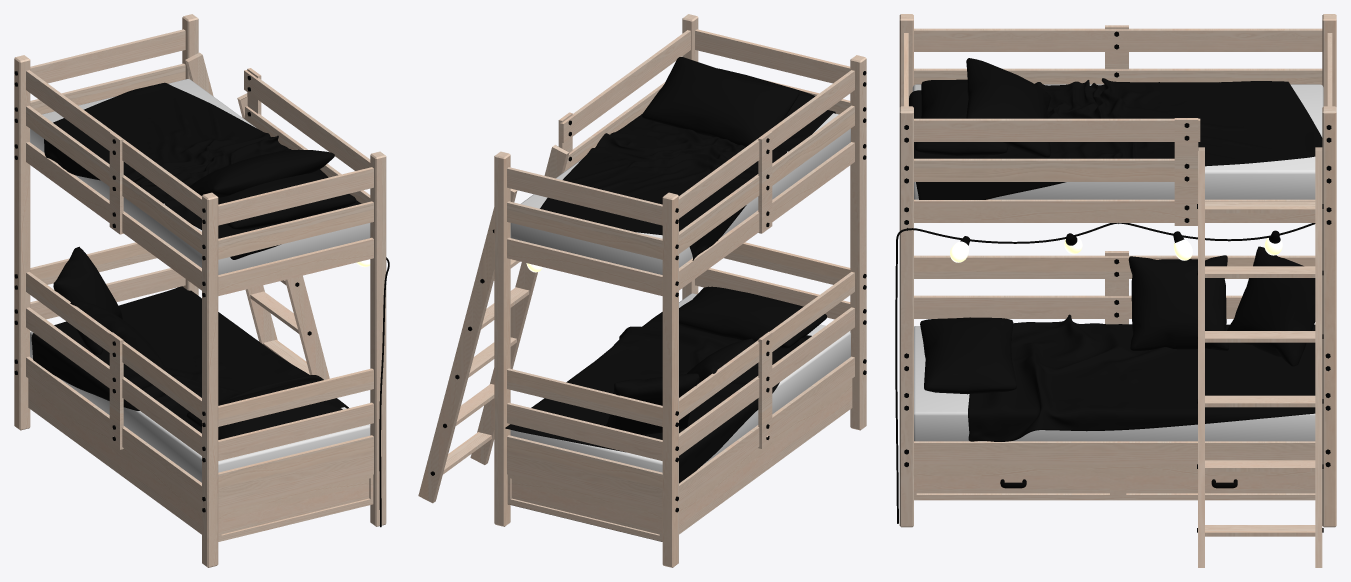
The model's file is Bunkbed.glb.
3 views of the same model, side by side, from view 1: azimuth 30°, elevation 25°; view 2: azimuth 150°, elevation 25°; view 3: azimuth 270°, elevation 25° (orthographic). The views are drawn at different scales.
Visible parts, largest first — view 1: Plane, blanket, pillow.004, materass, lamps, Metal; view 2: Plane, blanket, pillow.004, materass, Metal; view 3: Plane, blanket, pillow.004, materass, lamps, Metal.
Boxes of the visible parts, box(x1,y1,x2,y2) form: Plane: box(14, 14, 386, 567); blanket: box(31, 82, 361, 433); pillow.004: box(53, 149, 356, 439); materass: box(30, 79, 370, 482); lamps: box(356, 257, 389, 527); Metal: box(14, 71, 311, 512); Plane: box(418, 14, 866, 567); blanket: box(505, 110, 835, 483); pillow.004: box(606, 57, 827, 434); materass: box(510, 113, 850, 472); Metal: box(430, 71, 866, 512); Plane: box(899, 14, 1336, 567); blanket: box(909, 78, 1322, 441); pillow.004: box(915, 58, 1315, 394); materass: box(912, 84, 1323, 441); lamps: box(895, 223, 1315, 523); Metal: box(904, 31, 1331, 532).
Bounding box in the file's own units: 5.17 × 6.95 × 6.69.
Materials: 5 (1 with a texture image).
